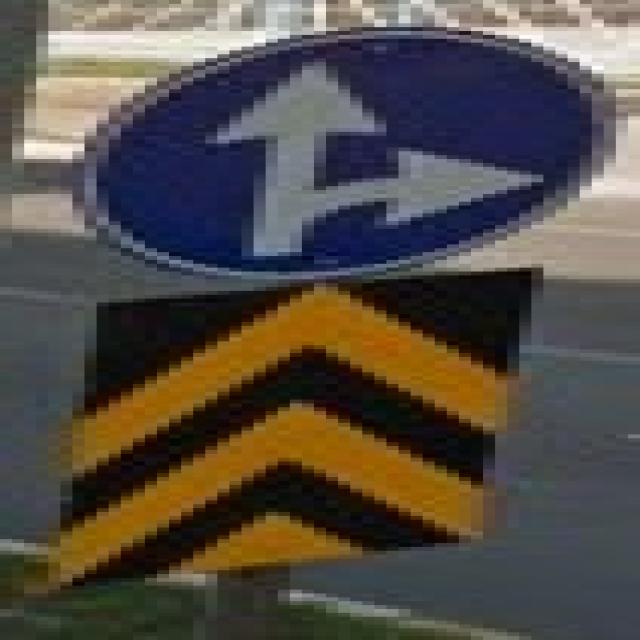Straight or Right: (67, 30, 611, 275)
